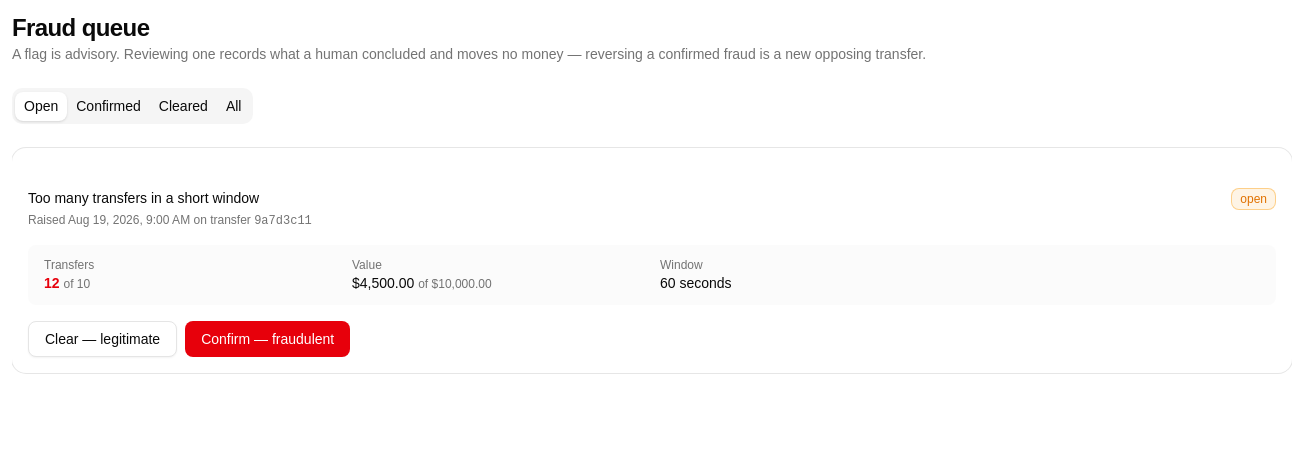
Test: two admins reviewing the same flag › refetches the queue after losing, not only after winning
Click the button "Confirm — fraudulent" at [268, 339], box left=185, top=321, right=350, bottom=357
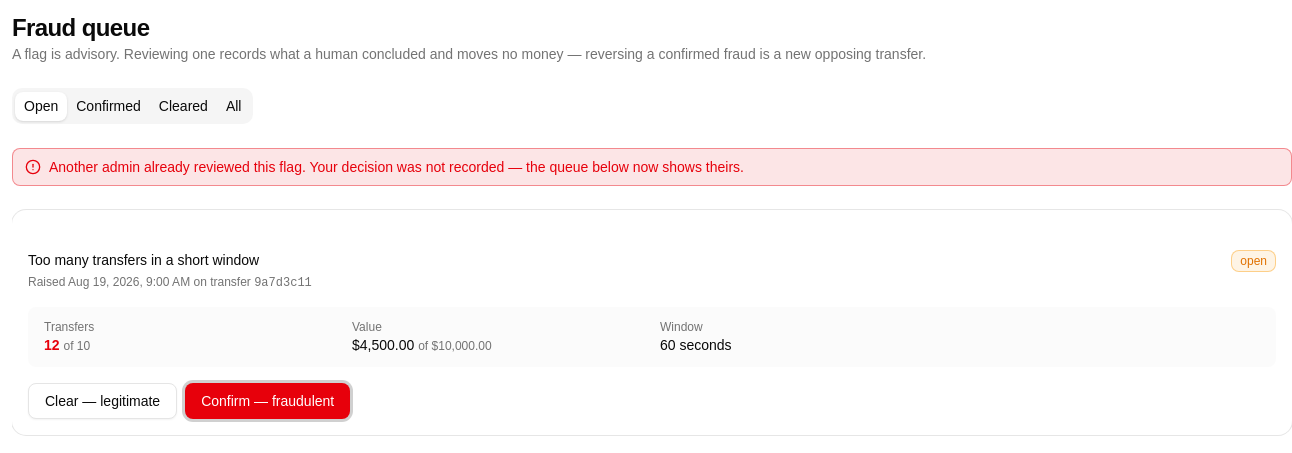
Check: the message is shown, box left=12, top=148, right=1291, bottom=186
